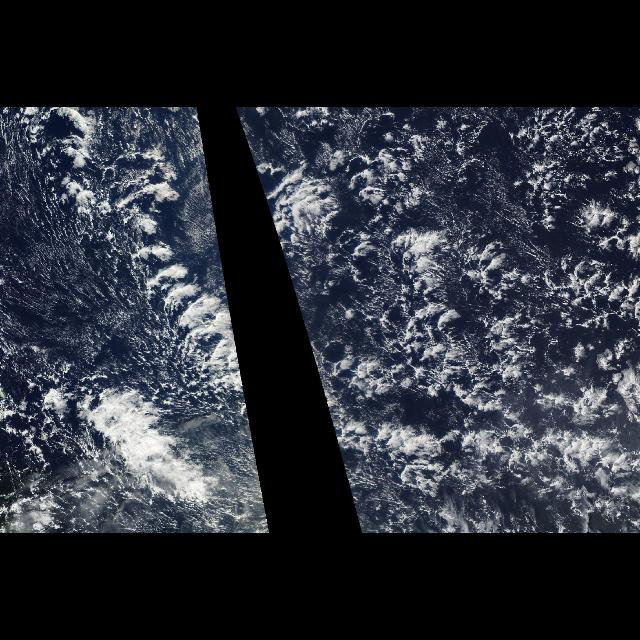Fish: (79, 228, 244, 504), (383, 410, 634, 514)
Gravel: (235, 109, 640, 533), (1, 109, 272, 533)
Sugar: (0, 234, 120, 350)
